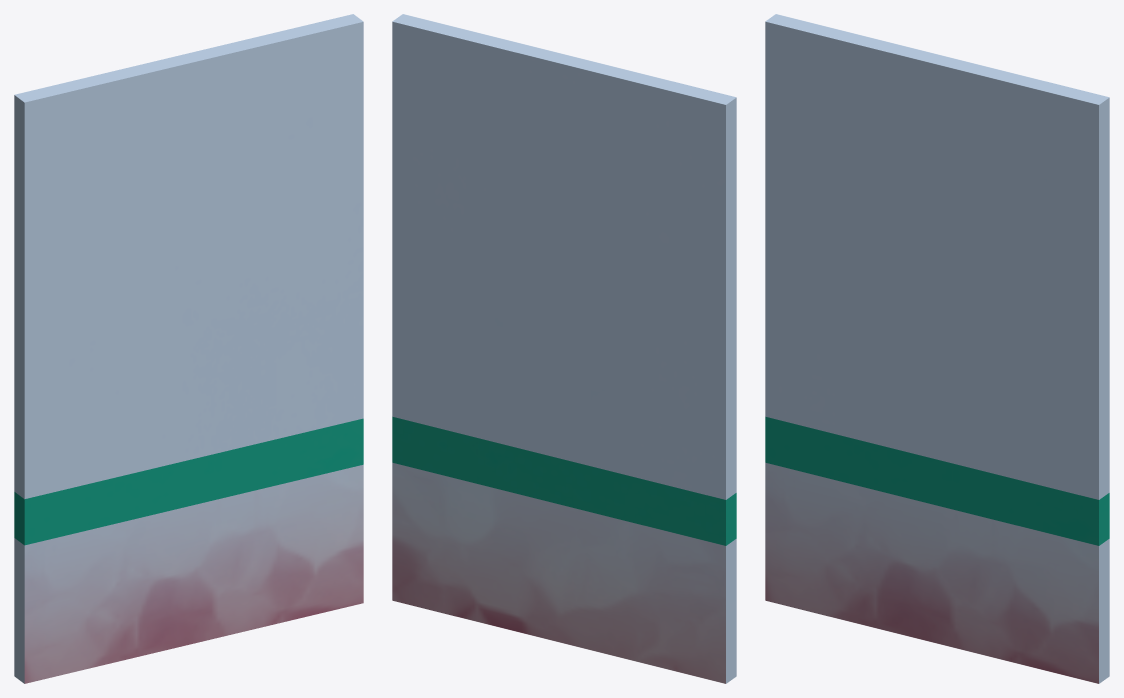
File: Bathroom_Stall_Wall.fbx
3 views of the same model, side by side, from view 1: azimuth 30°, elevation 25°; view 2: azimuth 150°, elevation 25°; view 3: azimuth 330°, elevation 25° (orthographic).
Visible parts, largest first — view 1: B_ToiletStall; view 2: B_ToiletStall; view 3: B_ToiletStall.
Part boxes in pixels (left/top/right/bottom): B_ToiletStall: left=14, top=14, right=363, bottom=683; B_ToiletStall: left=392, top=14, right=736, bottom=683; B_ToiletStall: left=765, top=14, right=1109, bottom=683.
Bounding box in the file's own units: 99.7 × 164 × 6.4.
